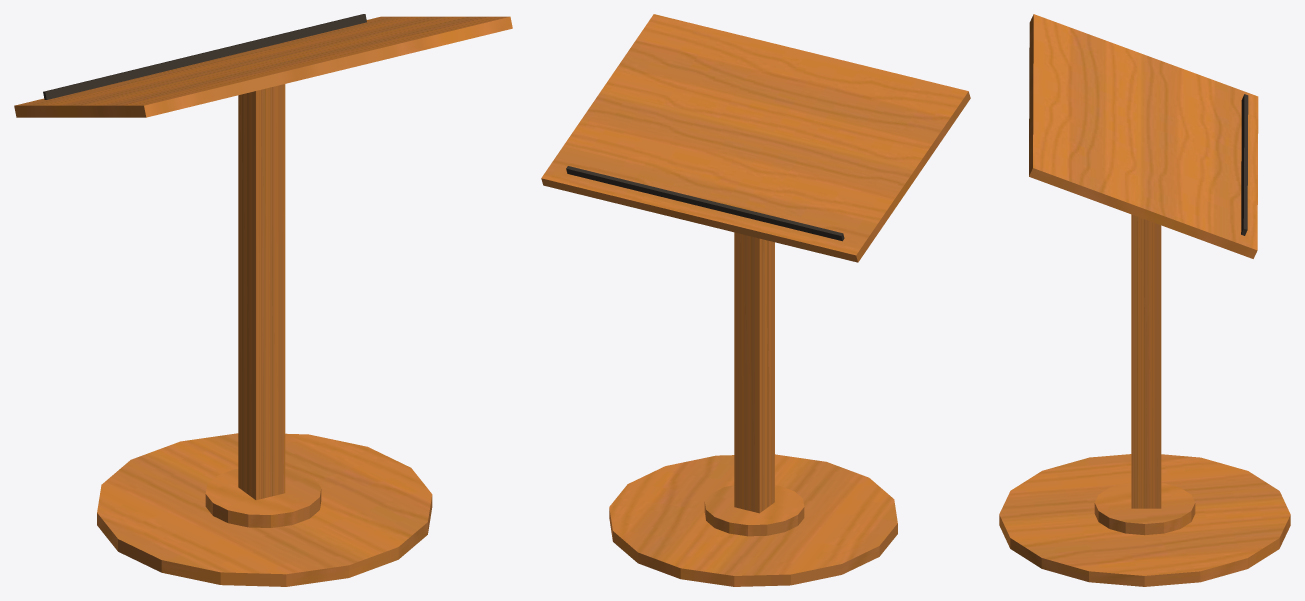
The model's file is Bookstand4.fbx.
3 renders of one model, left to right at view 1: azimuth 30°, elevation 25°; view 2: azimuth 150°, elevation 25°; view 3: azimuth 270°, elevation 25°, orthographic. The views are drawn at different scales.
Visible parts, largest first — view 1: Bookstand4; view 2: Bookstand4; view 3: Bookstand4.
Part boxes in pixels (<box>): Bookstand4: <box>14,14,512,586</box>; Bookstand4: <box>541,14,970,586</box>; Bookstand4: <box>999,14,1290,586</box>.
Bounding box in the file's own units: 828 × 661 × 1085.
